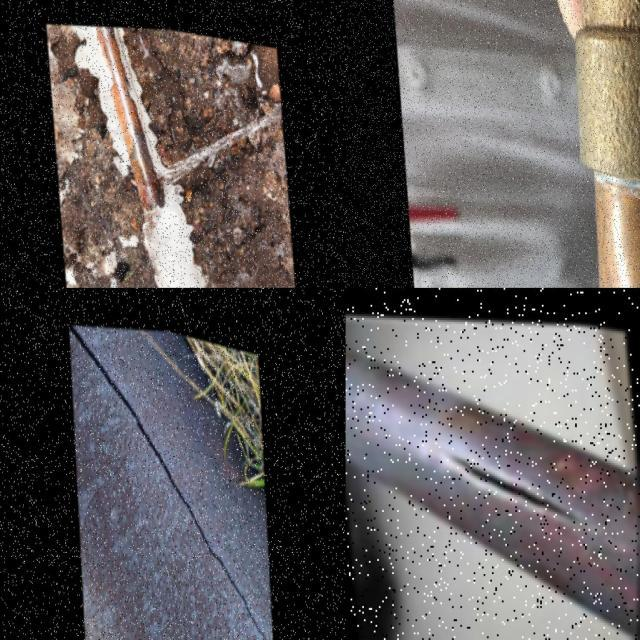crack: (70, 321, 271, 639), (429, 441, 586, 521)
rupture: (151, 167, 165, 194)
